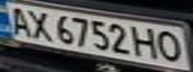2: (106, 20, 133, 56)
5: (87, 18, 112, 52)
6: (48, 12, 75, 46)
7: (69, 16, 90, 48)
A: (3, 3, 33, 37)
H: (130, 25, 160, 60)
O: (154, 29, 187, 64)
X: (24, 8, 54, 42)
